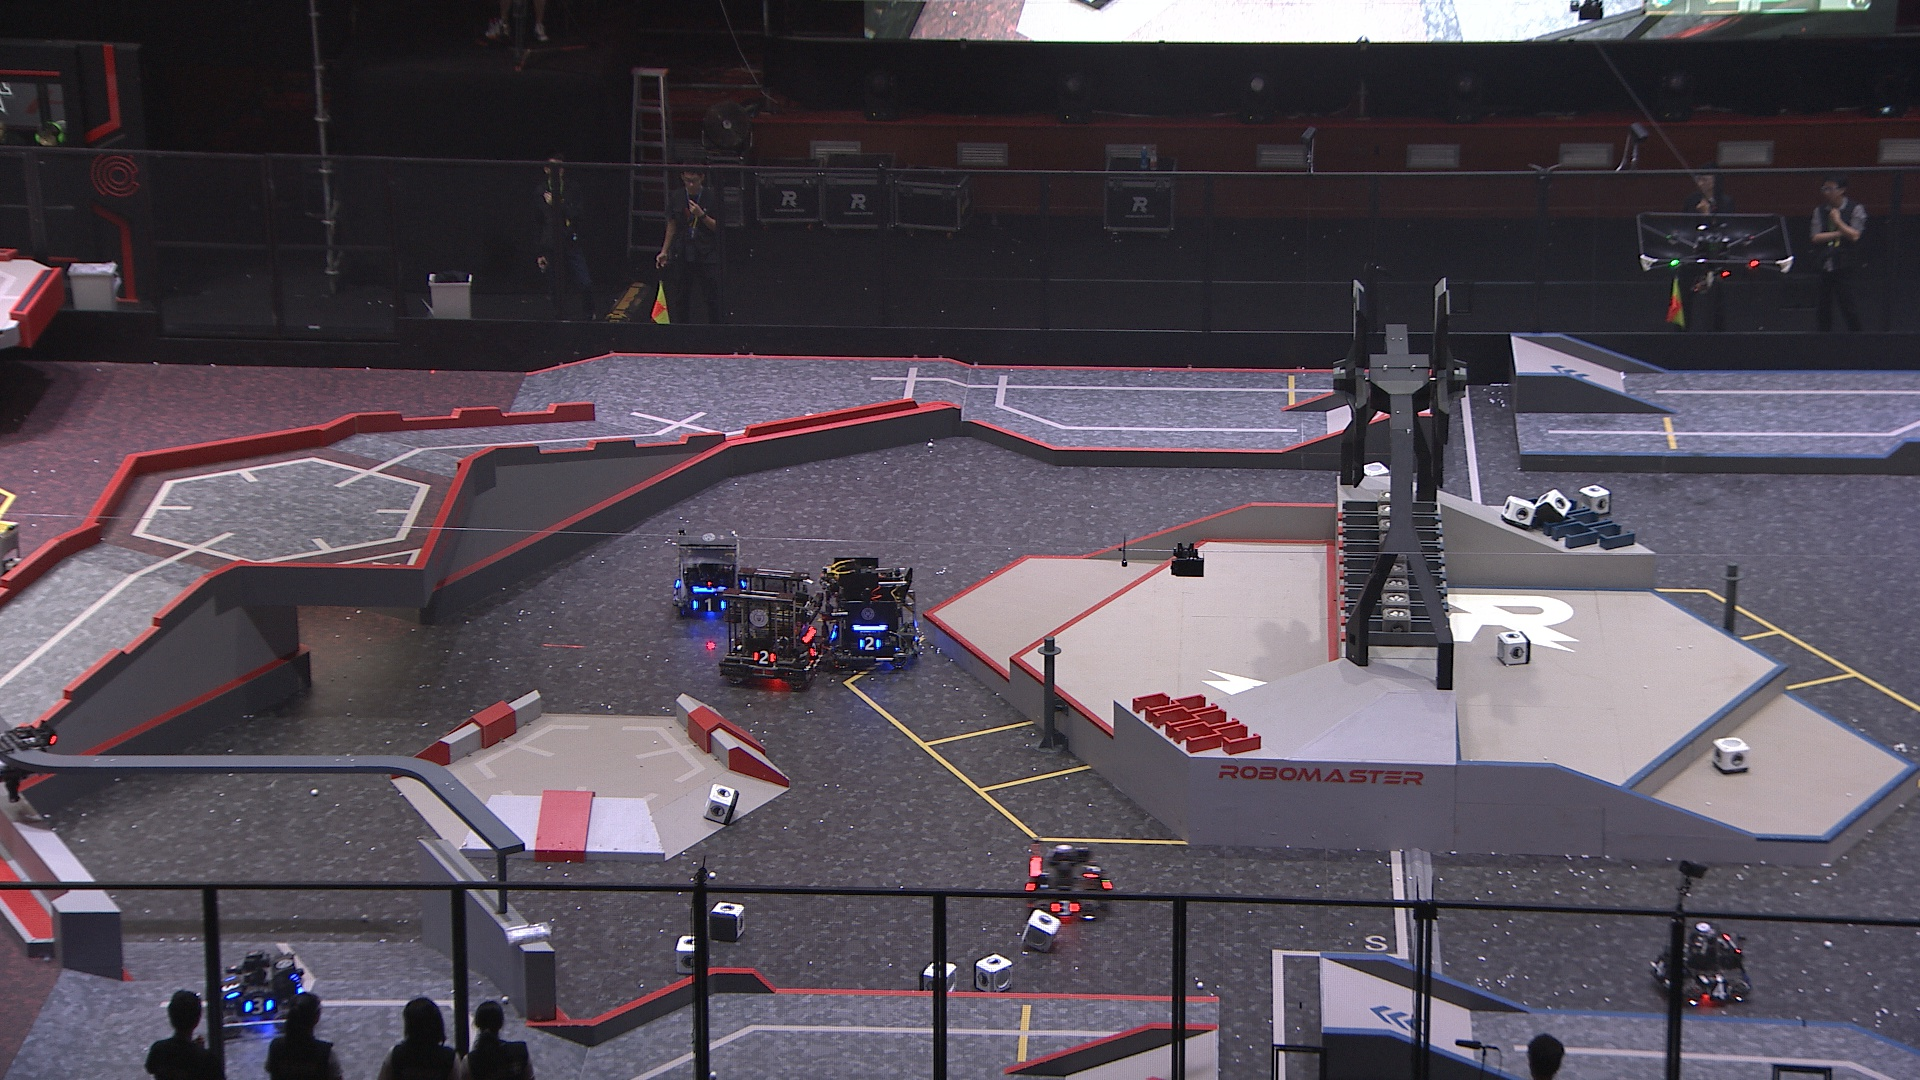armor: (240, 994, 276, 1019), (692, 593, 727, 615), (1704, 982, 1735, 1002), (220, 972, 240, 1002), (1050, 897, 1079, 916), (856, 633, 882, 654), (1077, 860, 1101, 882), (752, 646, 778, 666), (1648, 955, 1665, 978), (806, 638, 822, 661), (911, 622, 923, 645)
car: (713, 564, 835, 690), (812, 553, 931, 671), (1643, 916, 1754, 1011), (208, 943, 316, 1034), (1022, 840, 1116, 924), (673, 526, 746, 622)
